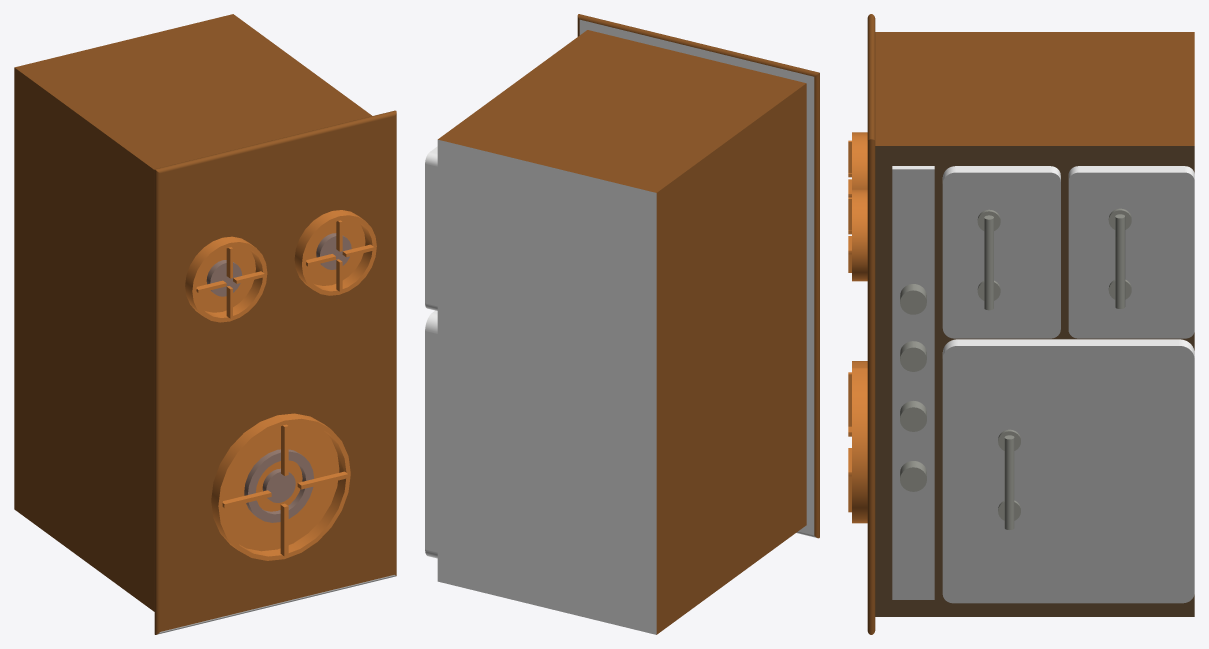
File: Vitro.fbx
3 views of the same model, side by side, from view 1: azimuth 30°, elevation 25°; view 2: azimuth 150°, elevation 25°; view 3: azimuth 270°, elevation 25° (orthographic). The views are drawn at different scales.
Parts seen in each view (by area): view 1: Model; view 2: Model; view 3: Model.
Part boxes in pixels (left/top/right/bottom): Model: left=14, top=14, right=396, bottom=634; Model: left=425, top=14, right=819, bottom=634; Model: left=848, top=14, right=1194, bottom=634.
Size of the model in its own units: 0.836 by 1.42 by 0.9.
